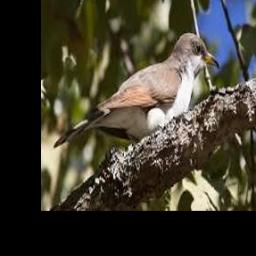Cuckoo: (54, 32, 220, 150)
